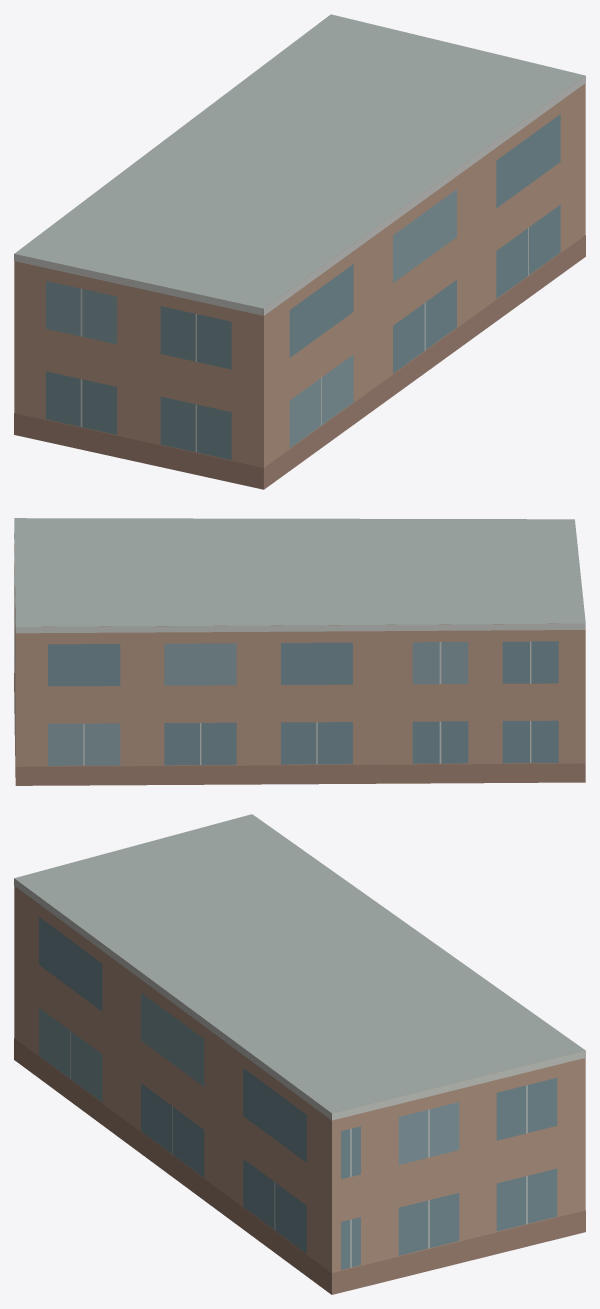
File: survey-upis-33029597.glb
3 renders of one model, top to bottom at view 1: azimuth 30°, elevation 25°; view 2: azimuth 150°, elevation 25°; view 3: azimuth 270°, elevation 25°, orthographic. The views are drawn at different scales.
Visible parts, largest first — view 1: survey-upis-33029597.tmp; view 2: survey-upis-33029597.tmp; view 3: survey-upis-33029597.tmp.
Boxes of the visible parts, <box> form: survey-upis-33029597.tmp: <box>14,14,585,489</box>; survey-upis-33029597.tmp: <box>14,518,585,785</box>; survey-upis-33029597.tmp: <box>14,814,585,1294</box>.
Bounding box in the file's own units: 21.58 × 6.1 × 17.42.
